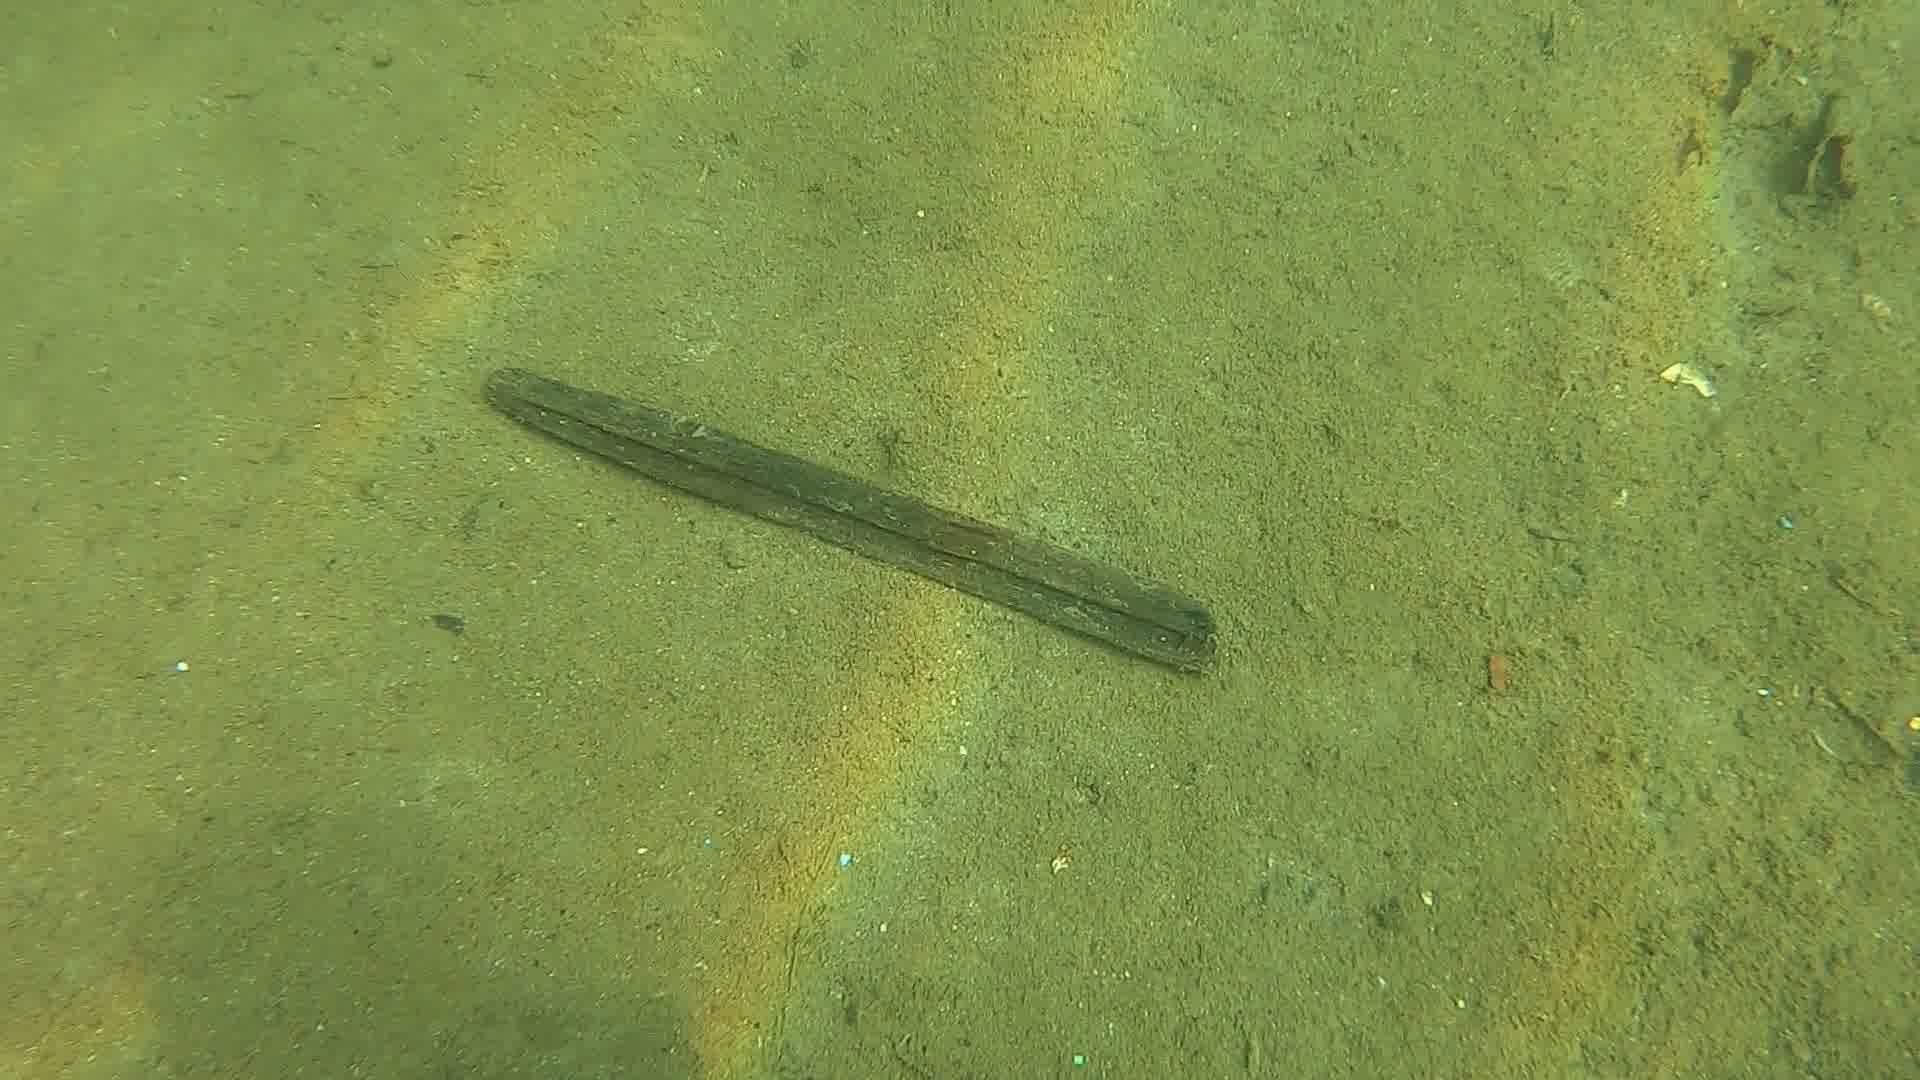wood: (480, 363, 1220, 673)
